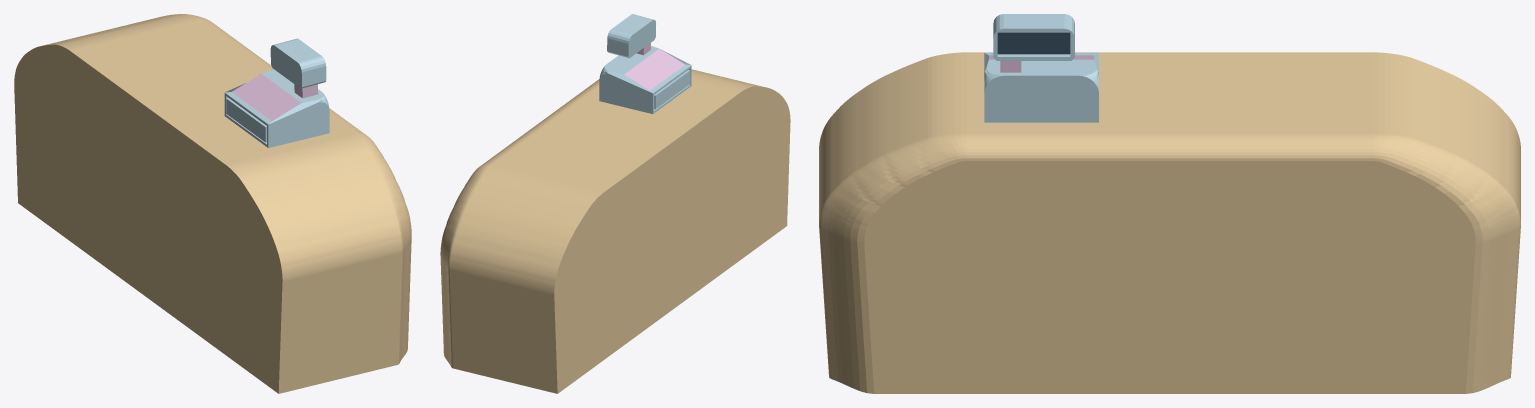
Rendered from cashier.fbx.
3 renders of one model, left to right at view 1: azimuth 30°, elevation 25°; view 2: azimuth 150°, elevation 25°; view 3: azimuth 270°, elevation 25°, orthographic. The views are drawn at different scales.
Parts seen in each view (by area): view 1: Cube, Cube.001, Cube.003; view 2: Cube, Cube.001, Cube.003; view 3: Cube, Cube.001, Cube.003.
Part boxes in pixels (x1,y1,x2,y2): Cube: [14, 14, 411, 393]; Cube.001: [224, 69, 329, 147]; Cube.003: [270, 38, 326, 88]; Cube: [440, 69, 790, 393]; Cube.001: [599, 46, 691, 113]; Cube.003: [607, 14, 655, 58]; Cube: [819, 52, 1520, 393]; Cube.001: [984, 52, 1098, 122]; Cube.003: [993, 14, 1074, 60].
Bounding box in the file's own units: 293 × 158 × 91.46.
